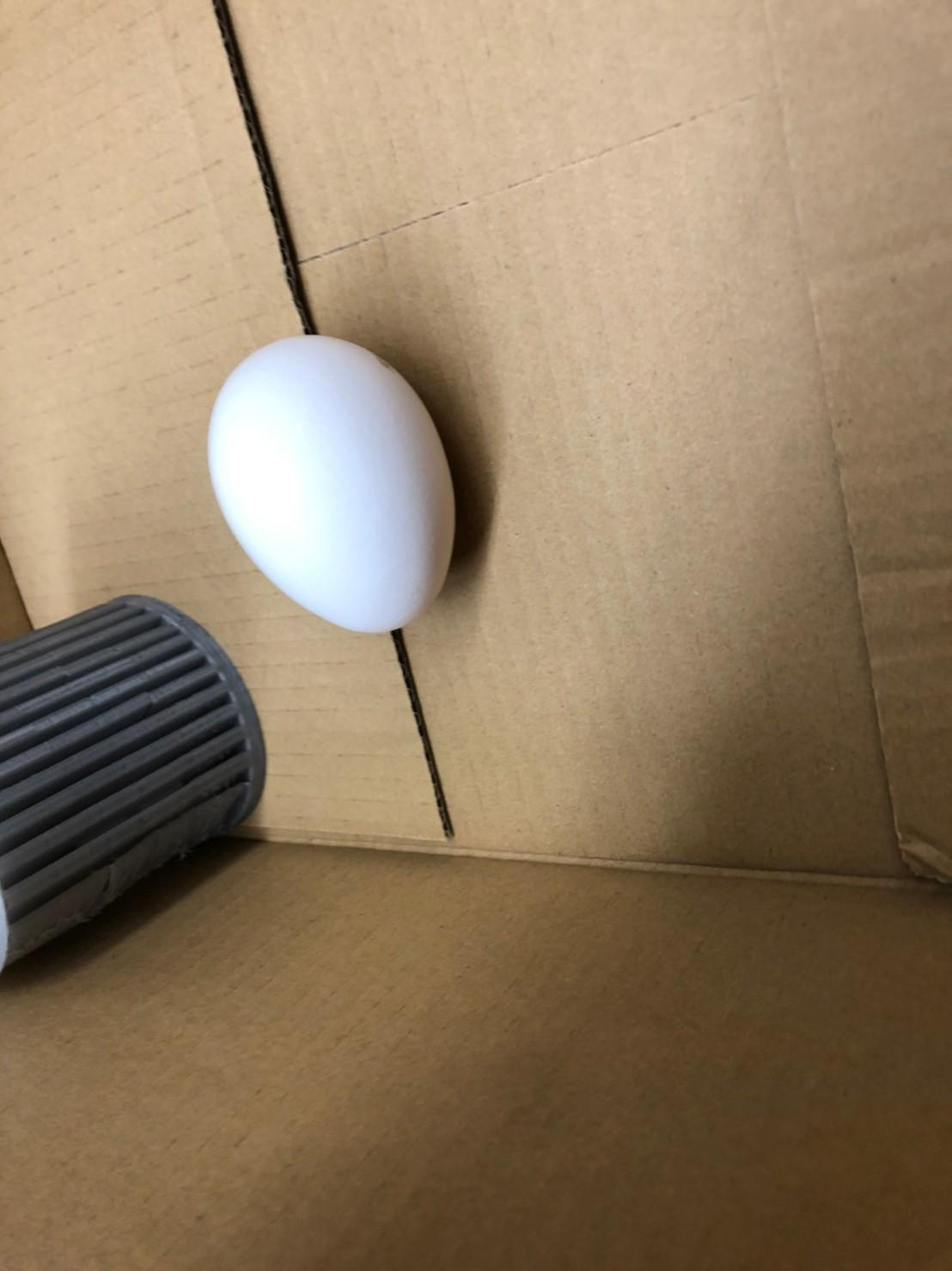egg: (198, 325, 472, 640)
